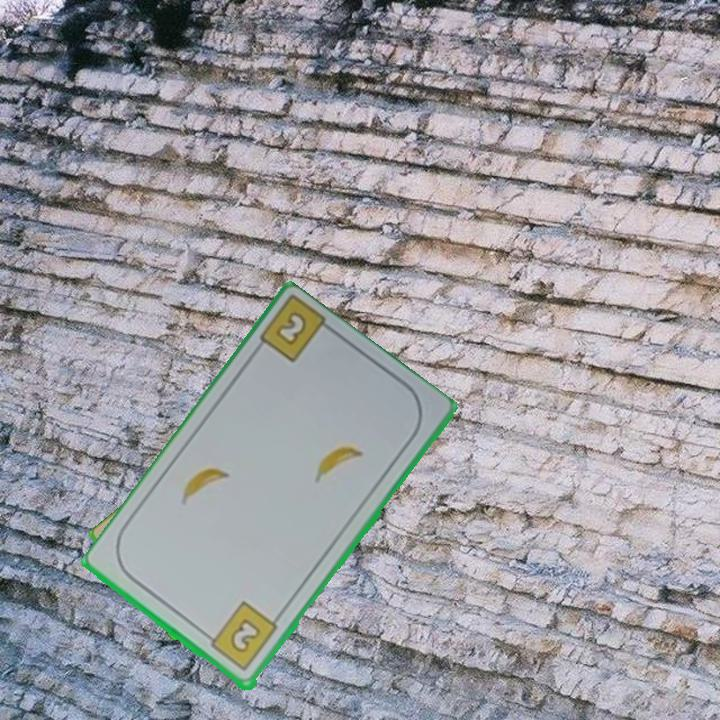2b: (201, 598, 281, 675), (271, 308, 310, 350)
